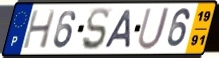6: (166, 7, 191, 51), (53, 10, 77, 50)
A: (103, 8, 134, 50)
H: (21, 9, 58, 51)
S: (80, 7, 111, 53)
U: (136, 6, 172, 52)
